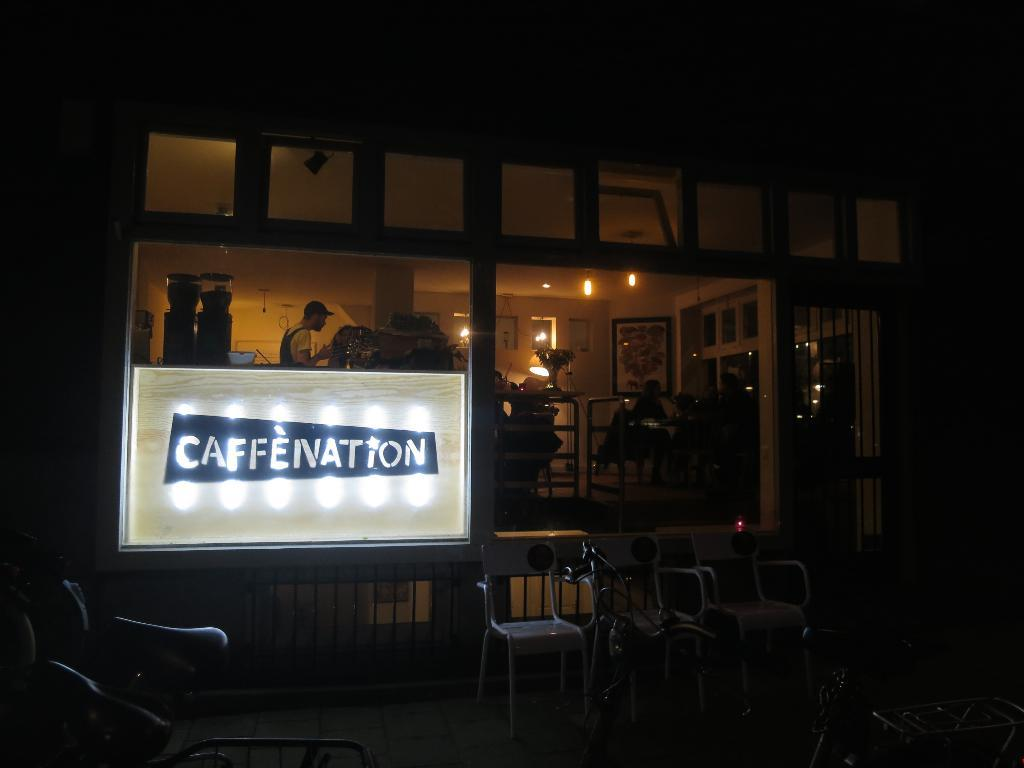Chair: (472, 539, 612, 730), (595, 539, 718, 733), (687, 532, 811, 701)
